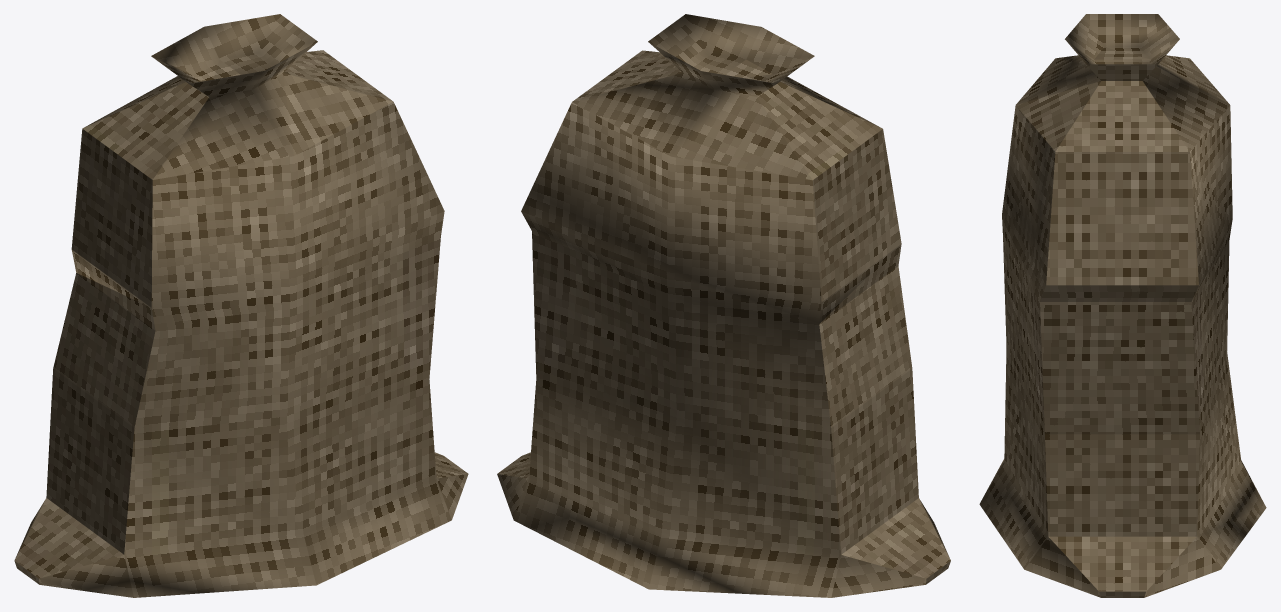
Rendered from jutesack_closed.glb.
3 renders of one model, left to right at view 1: azimuth 30°, elevation 25°; view 2: azimuth 150°, elevation 25°; view 3: azimuth 270°, elevation 25°, orthographic. The views are drawn at different scales.
Parts seen in each view (by area): view 1: jutesack_closed; view 2: jutesack_closed; view 3: jutesack_closed.
Boxes of the visible parts, x1,y1,x2,y2 form: jutesack_closed: [14, 14, 468, 597]; jutesack_closed: [497, 14, 950, 597]; jutesack_closed: [979, 14, 1266, 597].
Bounding box in the file's own units: 0.9454 × 1.04 × 0.573.
Materials: 1 (1 with a texture image).
